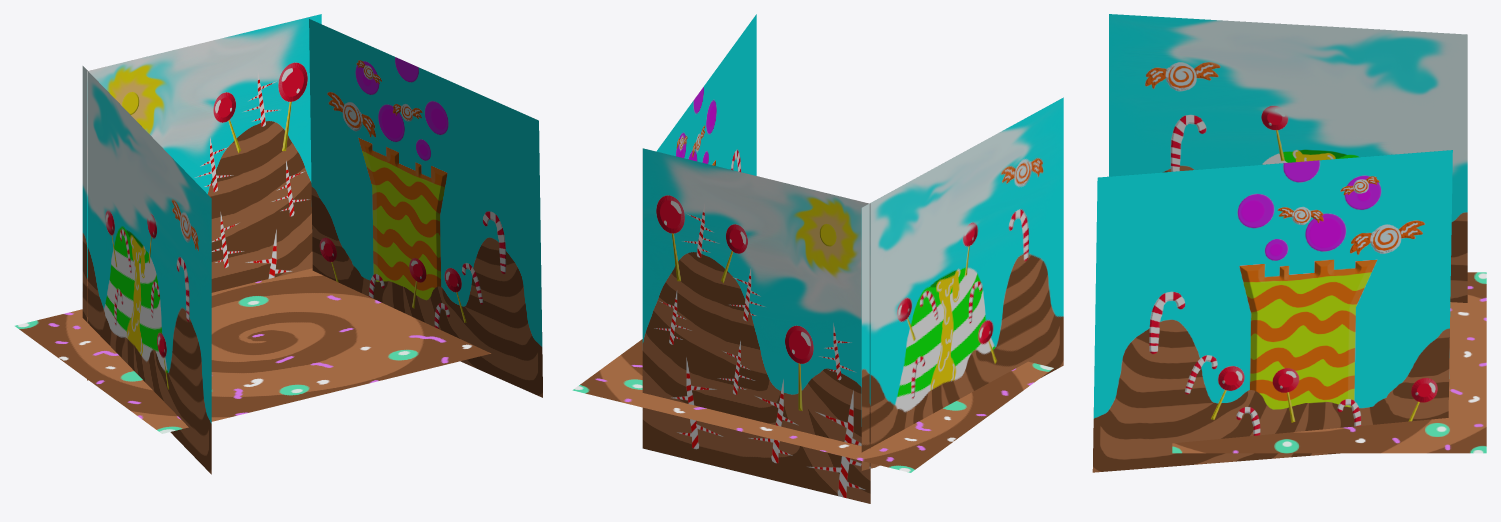
The model's file is arena_walls.fbx.
3 views of the same model, side by side, from view 1: azimuth 30°, elevation 25°; view 2: azimuth 150°, elevation 25°; view 3: azimuth 270°, elevation 25° (orthographic). The views are drawn at different scales.
Parts seen in each view (by area): view 1: Plane.004, Plane.002, Plane.003, Plane.001; view 2: Plane.002, Plane.003, Plane.001, Plane.004; view 3: Plane.004, Plane.003, Plane.001.
Boxes of the visible parts, x1,y1,x2,y2 form: Plane.004: (309,19,542,397); Plane.002: (87,14,321,380); Plane.003: (82,66,211,474); Plane.001: (15,268,490,433); Plane.002: (642,148,870,503); Plane.003: (861,97,1063,470); Plane.001: (572,339,1053,472); Plane.004: (656,14,756,175); Plane.004: (1092,150,1452,472); Plane.003: (1109,14,1467,302); Plane.001: (1172,272,1486,453).
Bounding box in the file's own units: 1470 × 1265 × 1352.
